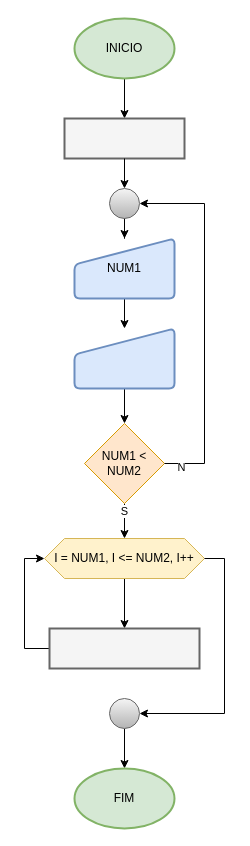
Some shapes in this 250 by 846 pixel diagram are drawn without their labels. Each missing label, with the box of its shape:
NUM2: (73, 327, 175, 389)
SOMA = 0: (63, 117, 185, 159)
SOMA = SOMA + I: (48, 627, 200, 669)
